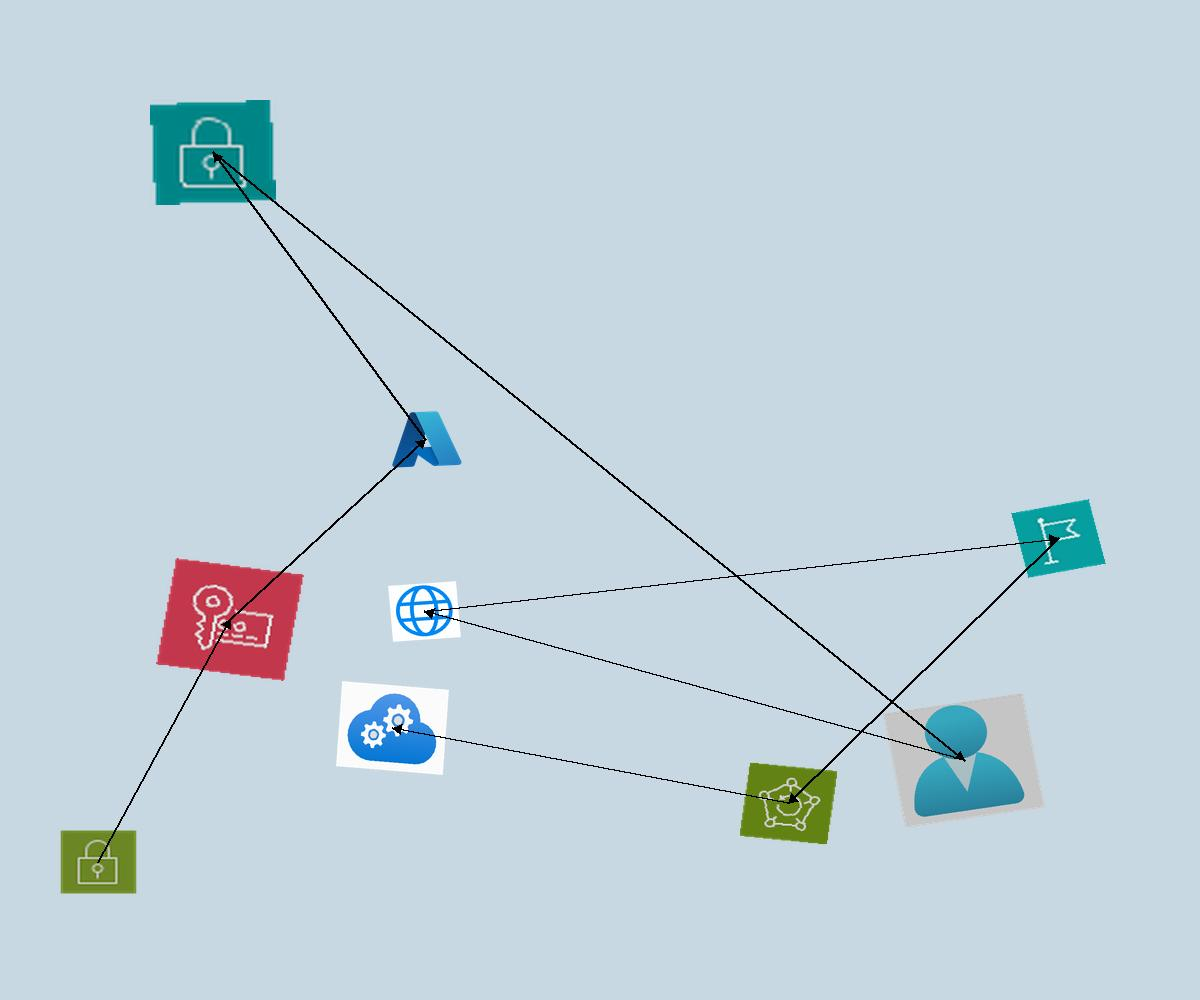AWS-Backup: (739, 762, 838, 845)
AWS-Key-Management-Service: (156, 558, 304, 681)
AWS-Private-subnet: (150, 100, 276, 205)
AWS-Public-subnet: (59, 829, 138, 895)
AWS-Region: (1011, 499, 1106, 578)
Azure_cloud_services: (336, 681, 449, 775)
Azure_http: (388, 581, 461, 642)
Azure_services: (386, 406, 465, 472)
Azure_users: (883, 693, 1045, 828)
